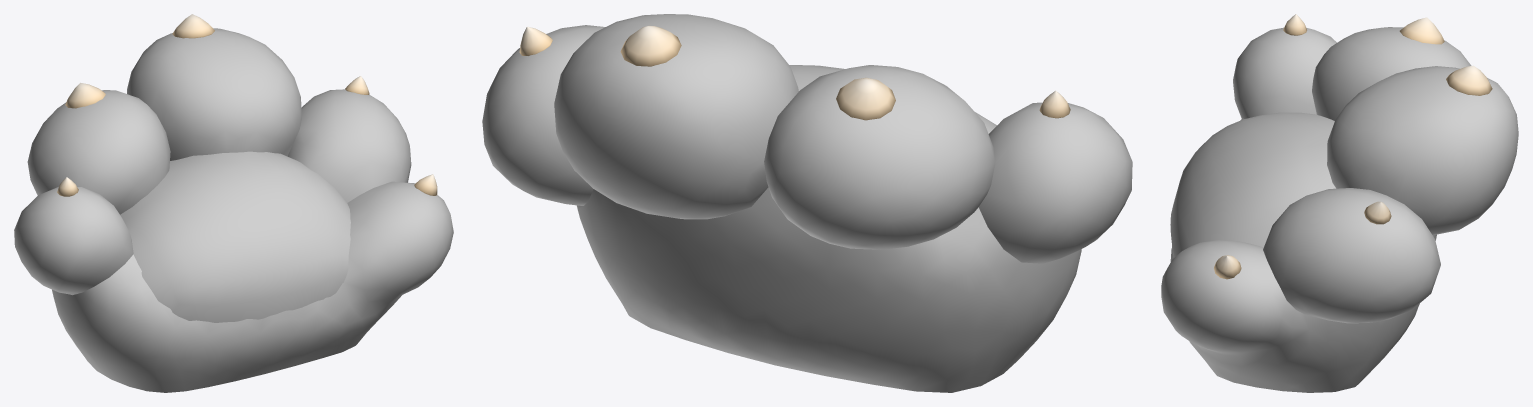
Rendered from Doll_OB_sofa01.fbx.
3 renders of one model, left to right at view 1: azimuth 30°, elevation 25°; view 2: azimuth 150°, elevation 25°; view 3: azimuth 270°, elevation 25°, orthographic. The views are drawn at different scales.
Parts seen in each view (by area): view 1: Doll_OB_sofa01_1, Doll_OB_sofa01_2; view 2: Doll_OB_sofa01_1, Doll_OB_sofa01_2; view 3: Doll_OB_sofa01_1, Doll_OB_sofa01_2.
Boxes of the visible parts, bbox=[...] form: Doll_OB_sofa01_1: bbox=[14, 28, 453, 392]; Doll_OB_sofa01_2: bbox=[57, 14, 437, 196]; Doll_OB_sofa01_1: bbox=[482, 14, 1132, 392]; Doll_OB_sofa01_2: bbox=[519, 25, 1070, 120]; Doll_OB_sofa01_1: bbox=[1161, 27, 1518, 392]; Doll_OB_sofa01_2: bbox=[1214, 14, 1492, 279].
Bounding box in the file's own units: 60.89 × 37.23 × 42.27.
